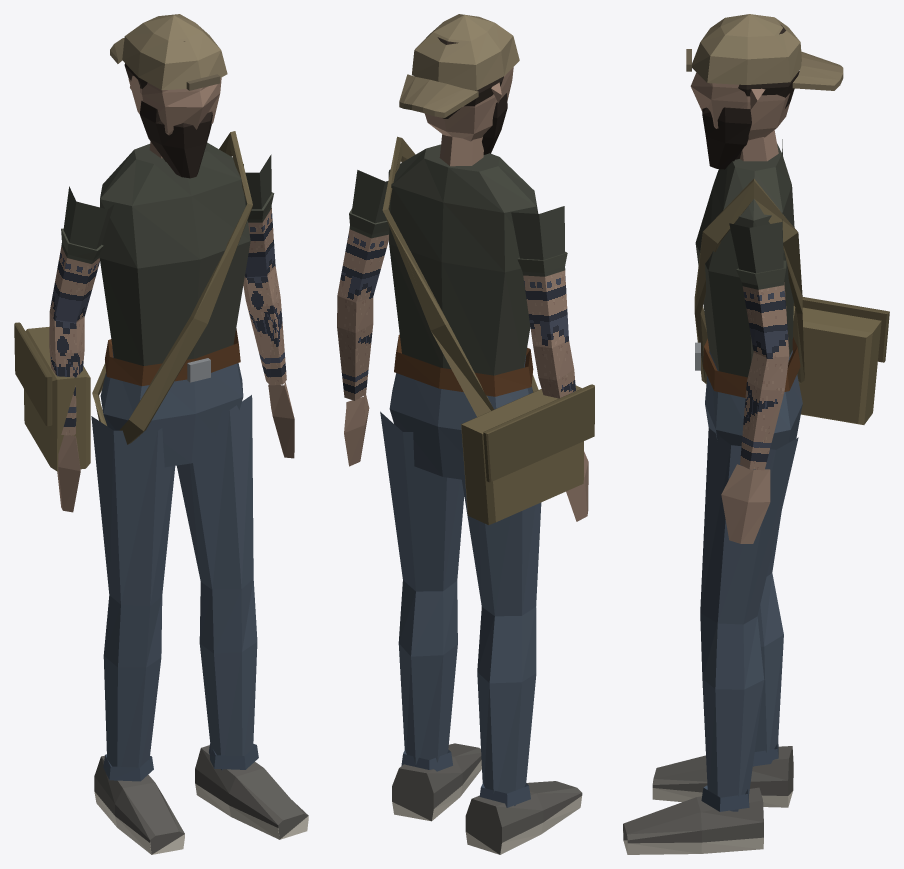
The model's file is braith_summer.glb.
3 renders of one model, left to right at view 1: azimuth 30°, elevation 25°; view 2: azimuth 150°, elevation 25°; view 3: azimuth 270°, elevation 25°, orthographic. The views are drawn at different scales.
Parts seen in each view (by area): view 1: braith_summer; view 2: braith_summer; view 3: braith_summer.
Boxes of the visible parts, x1,y1,x2,y2 form: braith_summer: [14, 14, 308, 854]; braith_summer: [337, 14, 594, 854]; braith_summer: [623, 14, 889, 854].
Bounding box in the file's own units: 0.5828 × 1.8 × 0.5421.
Materials: 18 (1 with a texture image).
